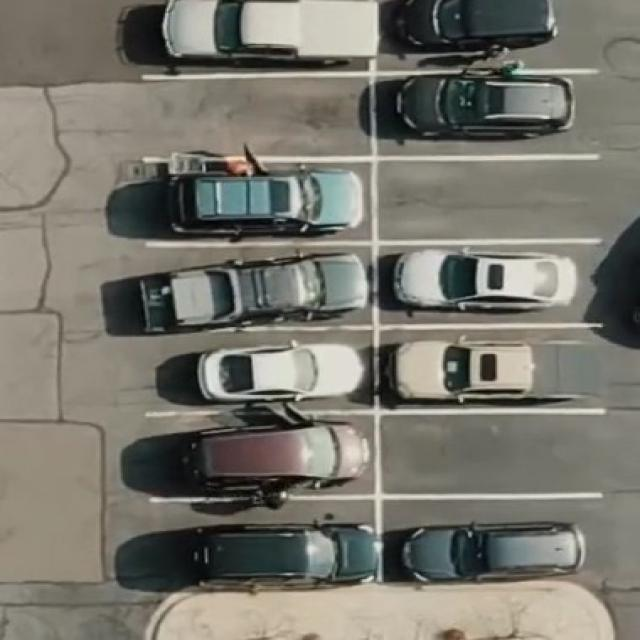space-empty: (372, 147, 606, 262), (376, 408, 610, 500), (136, 71, 372, 160)
space-occupied: (121, 497, 381, 592), (374, 312, 611, 414), (120, 239, 372, 334), (372, 61, 598, 163), (133, 409, 377, 500), (133, 154, 372, 245), (380, 496, 604, 584), (132, 336, 386, 408), (136, 0, 374, 75), (377, 0, 566, 68)
